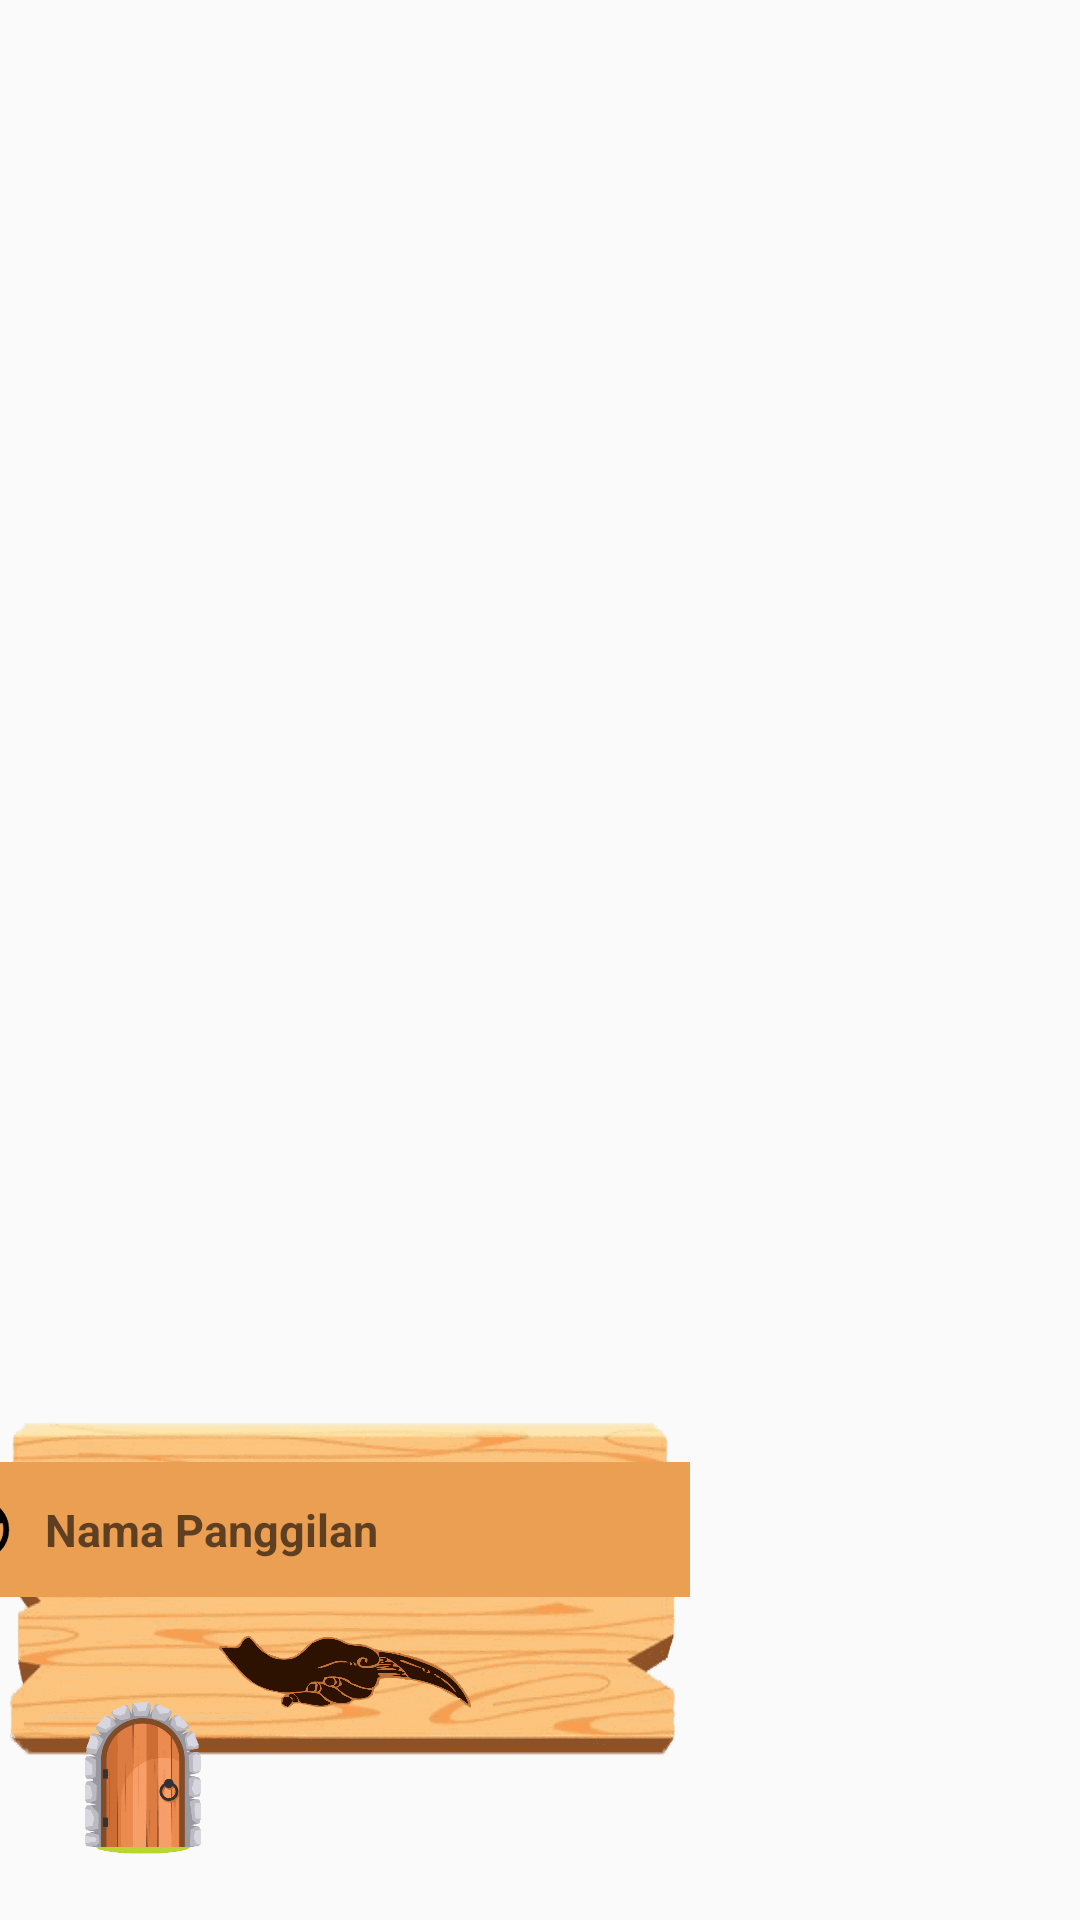

Icon click points for this 1080px×1920px phone screenshot, format (x,y):
keluar: (142,1777)
